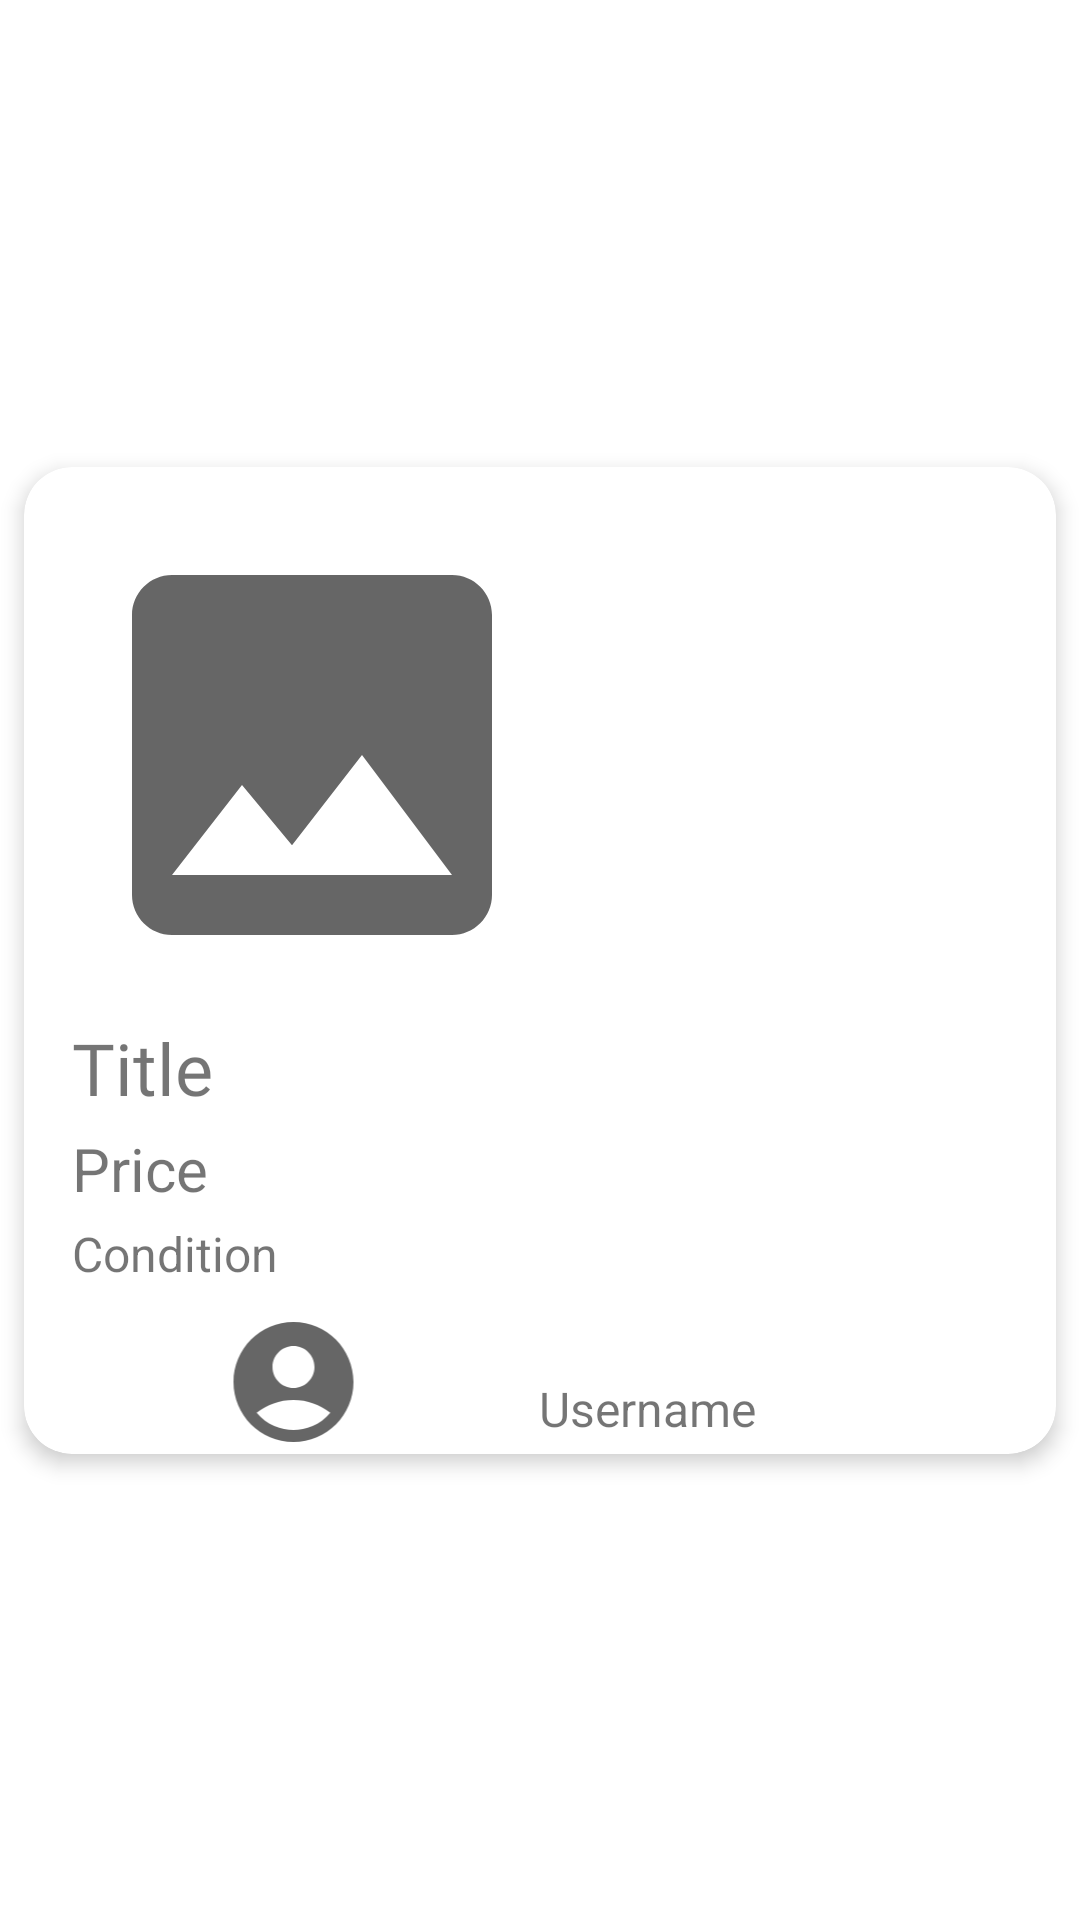

Locate icon controls on the screen. Image size 1080x1920, boxes as BBox(x1, y1, x2, y2).
profile: BBox(233, 1322, 354, 1442)
